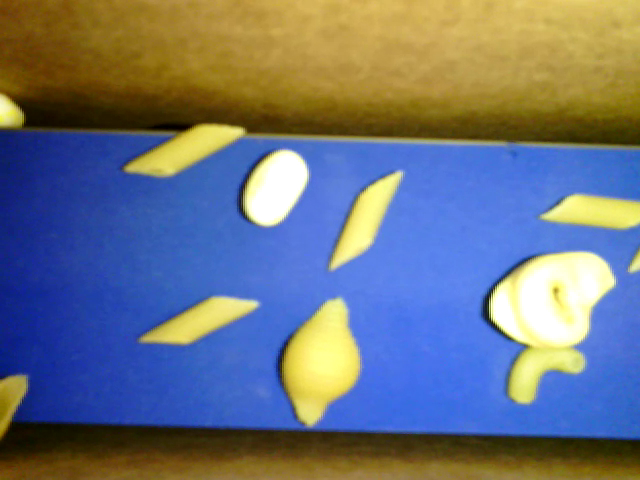elbow: (506, 344, 586, 404)
penne: (328, 170, 405, 272), (122, 124, 246, 175), (138, 295, 260, 345), (539, 193, 639, 228)
shell: (279, 296, 363, 428)
tortellini: (487, 253, 617, 348)
